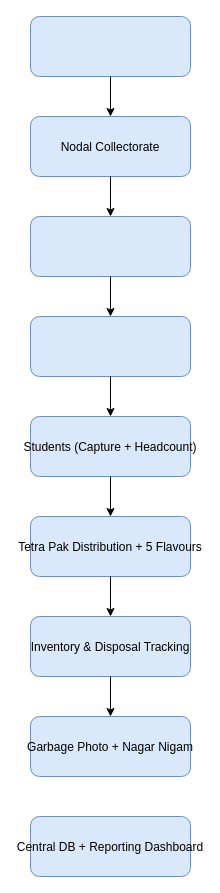
The diagram is 220 pixels wide and 893 high, and some of its shapes have lost their labels. Here are the shapes that lost their labels. From the top down, the box of each, then its label:
(30, 16, 190, 76): CEO / State Admin
(30, 216, 190, 276): Schools & Anganwadi
(30, 316, 190, 376): Teachers (Distribution + ID)
